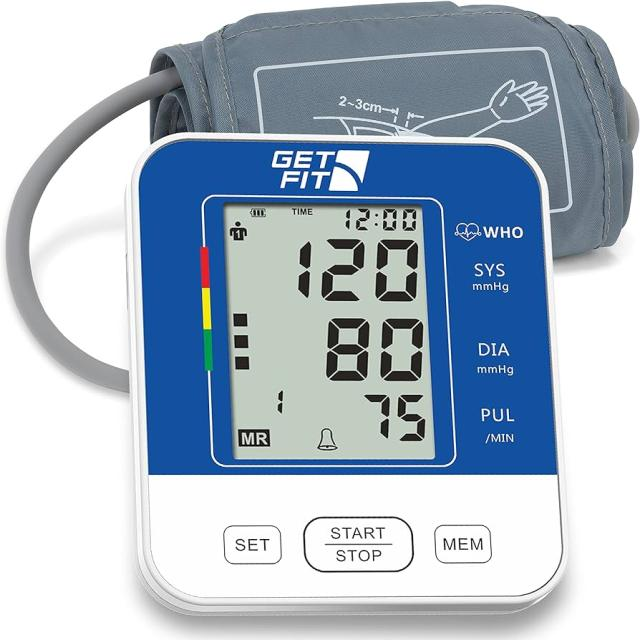dia: (316, 308, 425, 385)
pul: (358, 389, 429, 449)
ssd: (223, 196, 436, 467)
sys: (288, 234, 425, 303)
